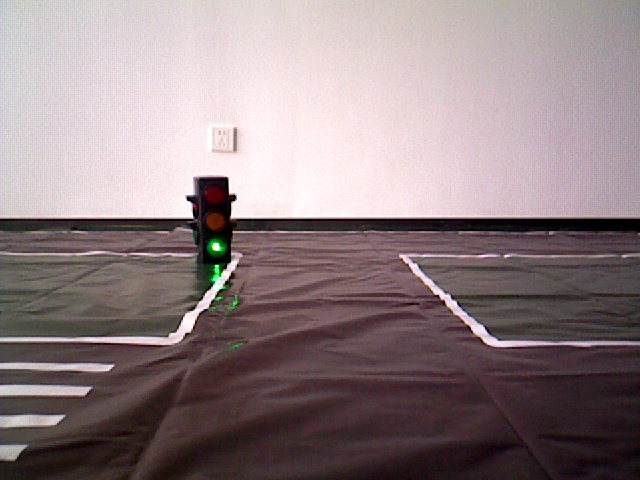green: (193, 180, 231, 254)
